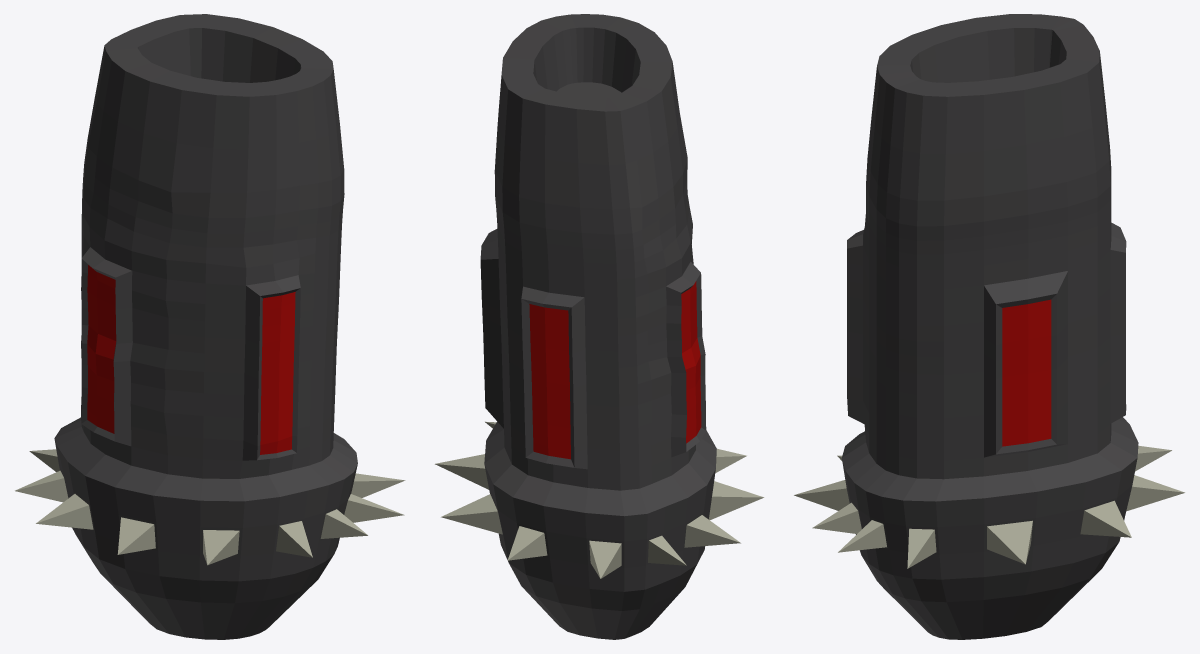
The model's file is ArmaGeneral.fbx.
The picture shows the model from 3 angles, left to right: view 1: azimuth 30°, elevation 25°; view 2: azimuth 150°, elevation 25°; view 3: azimuth 270°, elevation 25°; orthographic projection. The views are drawn at different scales.
Parts seen in each view (by area): view 1: Weapon1.normalShot; view 2: Weapon1.normalShot; view 3: Weapon1.normalShot.
Part boxes in pixels (x1,y1,x2,y2): Weapon1.normalShot: [15, 14, 405, 639]; Weapon1.normalShot: [435, 14, 764, 639]; Weapon1.normalShot: [794, 14, 1184, 639].
Size of the model in its own units: 57.18 by 96.62 by 60.03.
